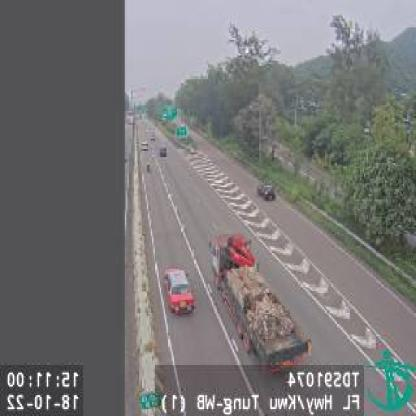Car: (164, 266, 198, 317), (257, 182, 275, 203), (158, 146, 168, 157)
Truck: (207, 232, 312, 372)
